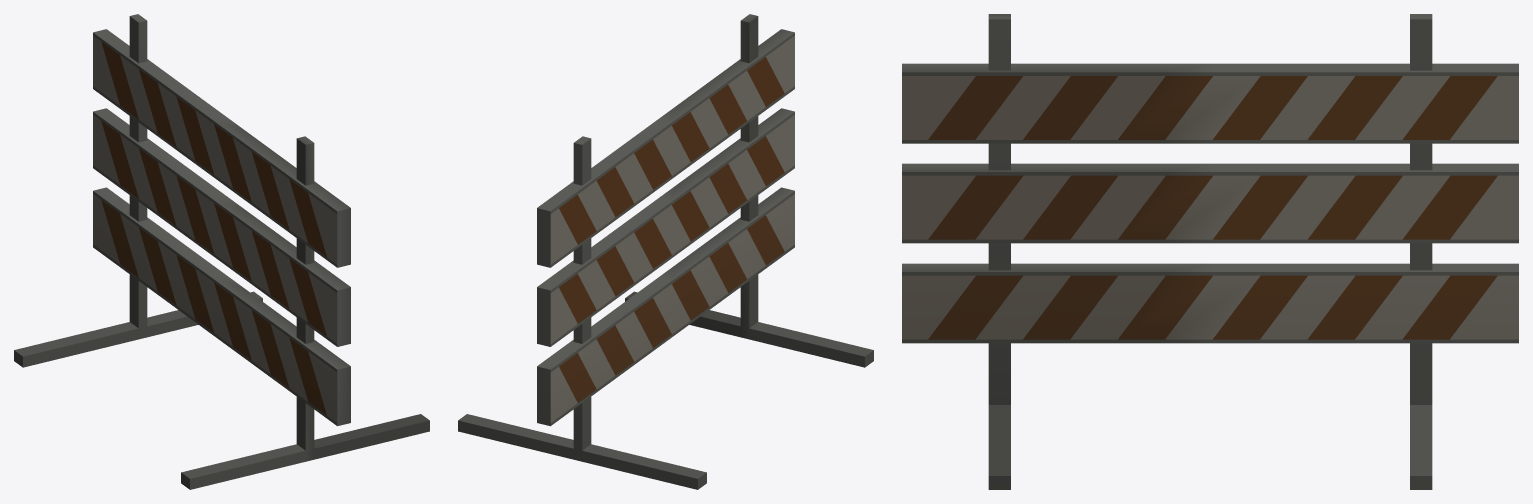
The model's file is ct_barrier_a.glb.
3 renders of one model, left to right at view 1: azimuth 30°, elevation 25°; view 2: azimuth 150°, elevation 25°; view 3: azimuth 270°, elevation 25°, orthographic. The views are drawn at different scales.
Parts seen in each view (by area): view 1: ct_barrier_a; view 2: ct_barrier_a; view 3: ct_barrier_a.
Boxes of the visible parts, box(x1,y1,x2,y2) form: ct_barrier_a: box(14, 14, 429, 489); ct_barrier_a: box(458, 14, 873, 489); ct_barrier_a: box(902, 14, 1518, 489).
Size of the model in its own units: 0.8807 by 1.11 by 1.56.
